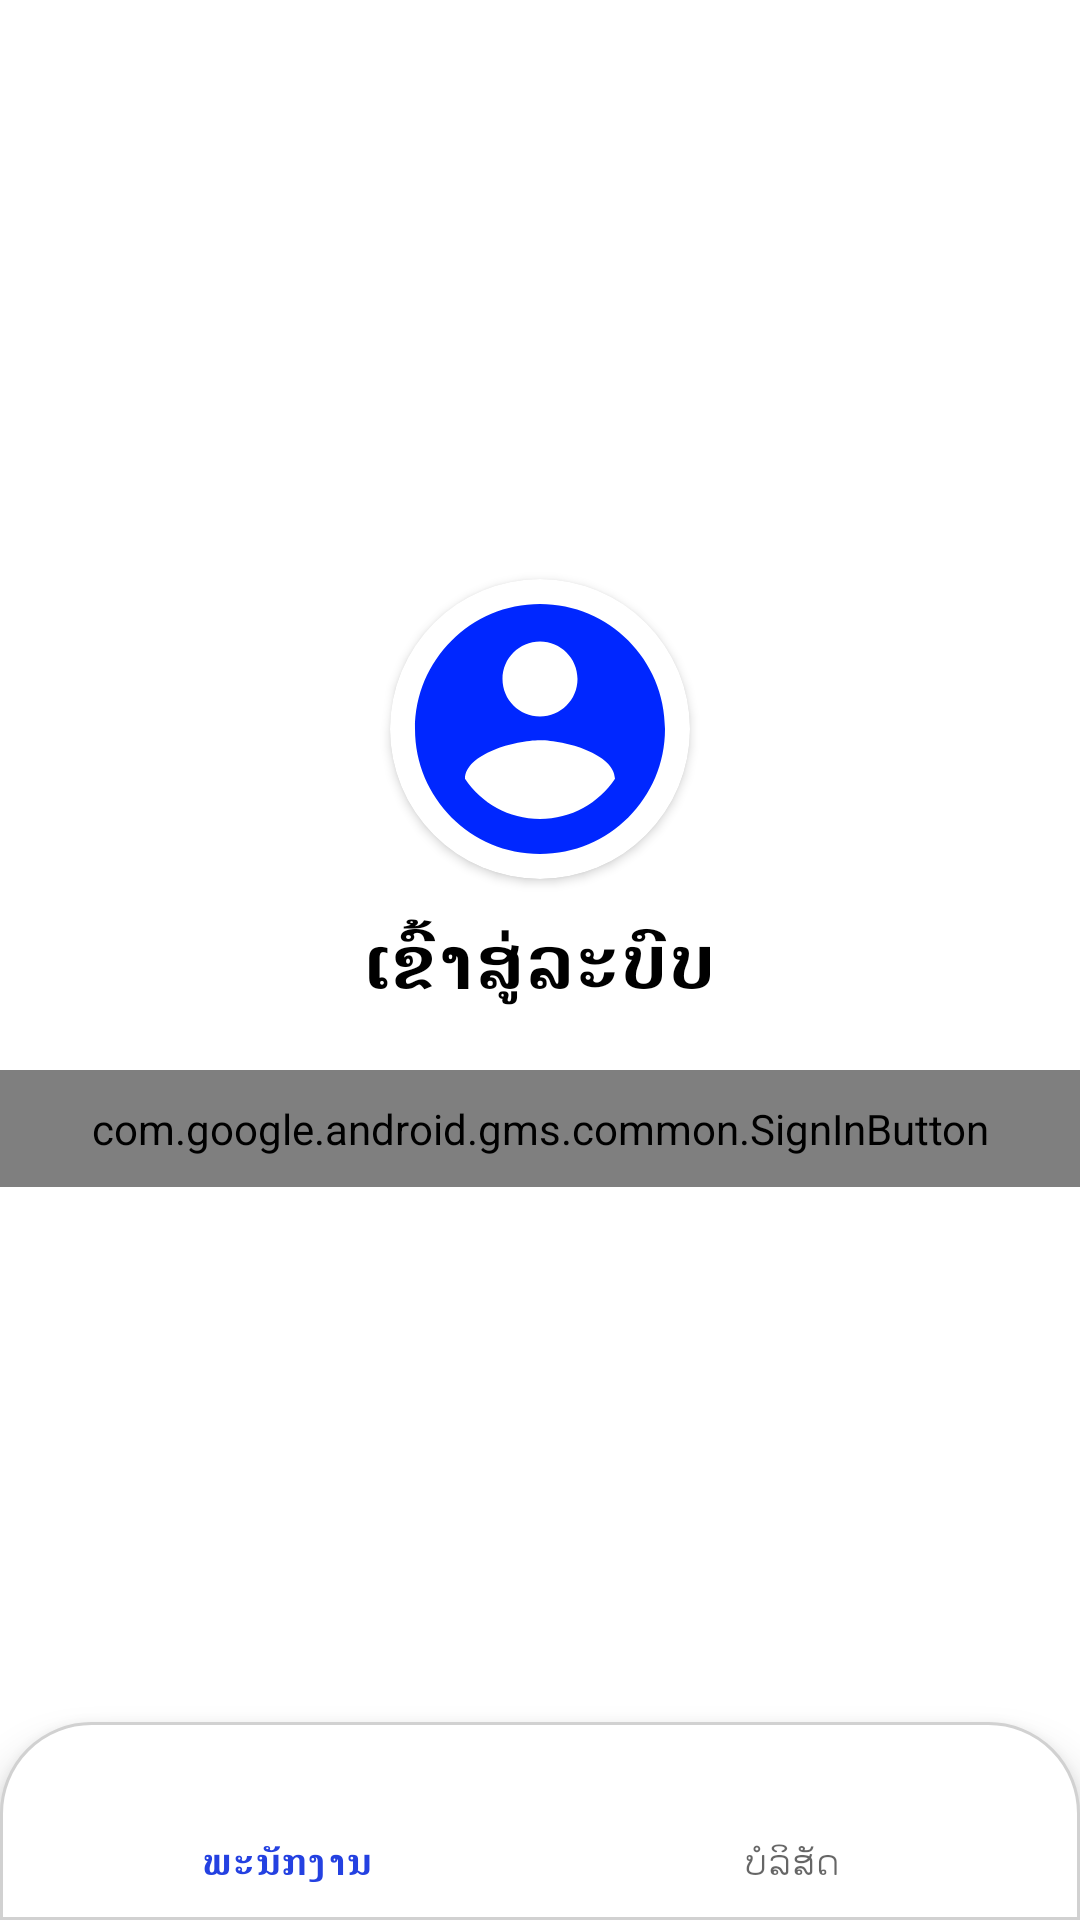

Locate icon controls on the screen. Image size 1080x1920, boxes as BBox(x1, y1, x2, y2).
account circle: BBox(391, 604, 689, 879)
